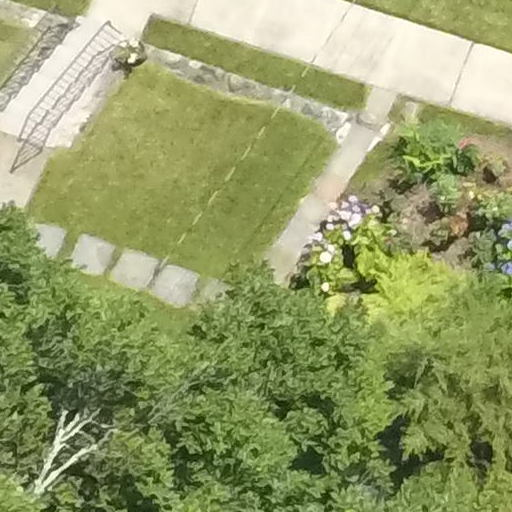pot: (111, 31, 152, 69)
